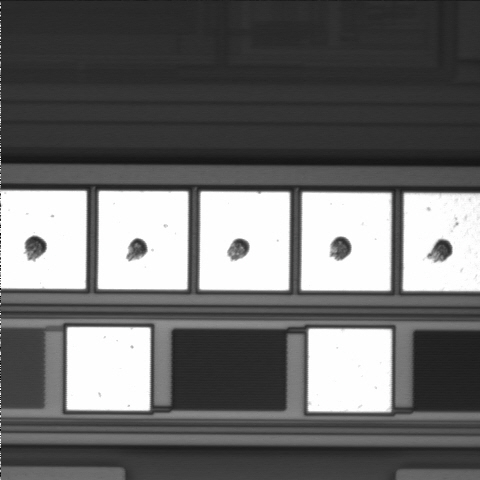pad: (199, 192, 290, 290), (98, 191, 188, 290), (301, 192, 391, 291), (67, 327, 150, 411), (308, 329, 392, 412)
